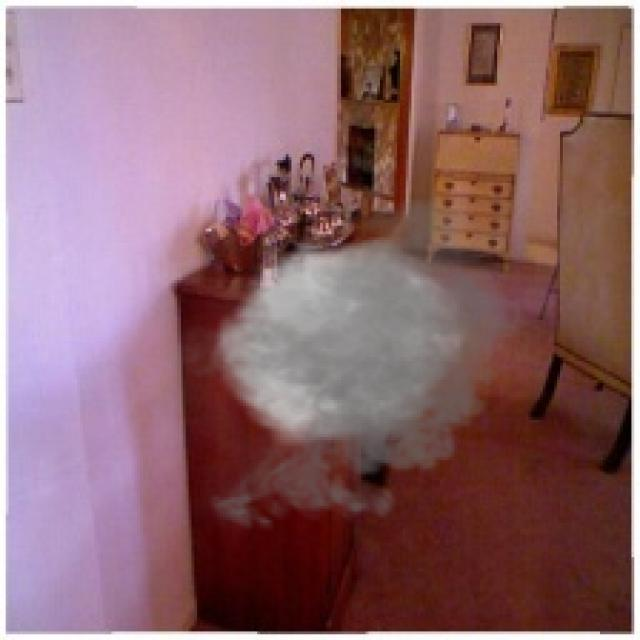Smoke: (145, 185, 538, 540)
